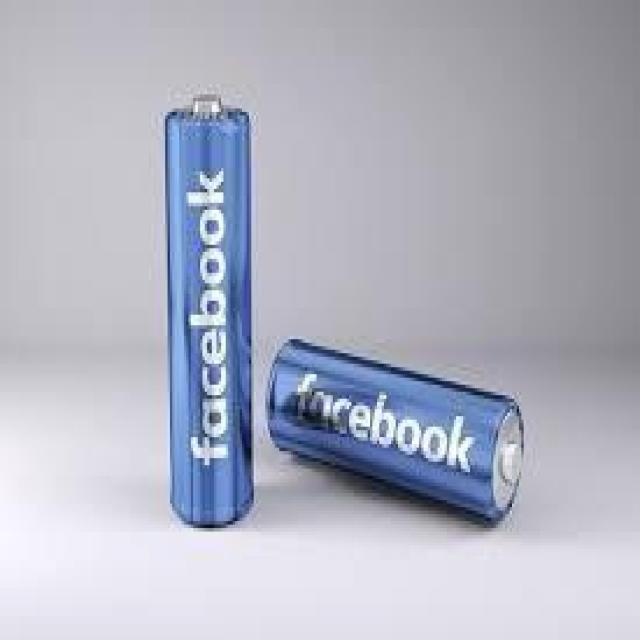AA: (263, 335, 527, 528), (162, 92, 258, 533)
